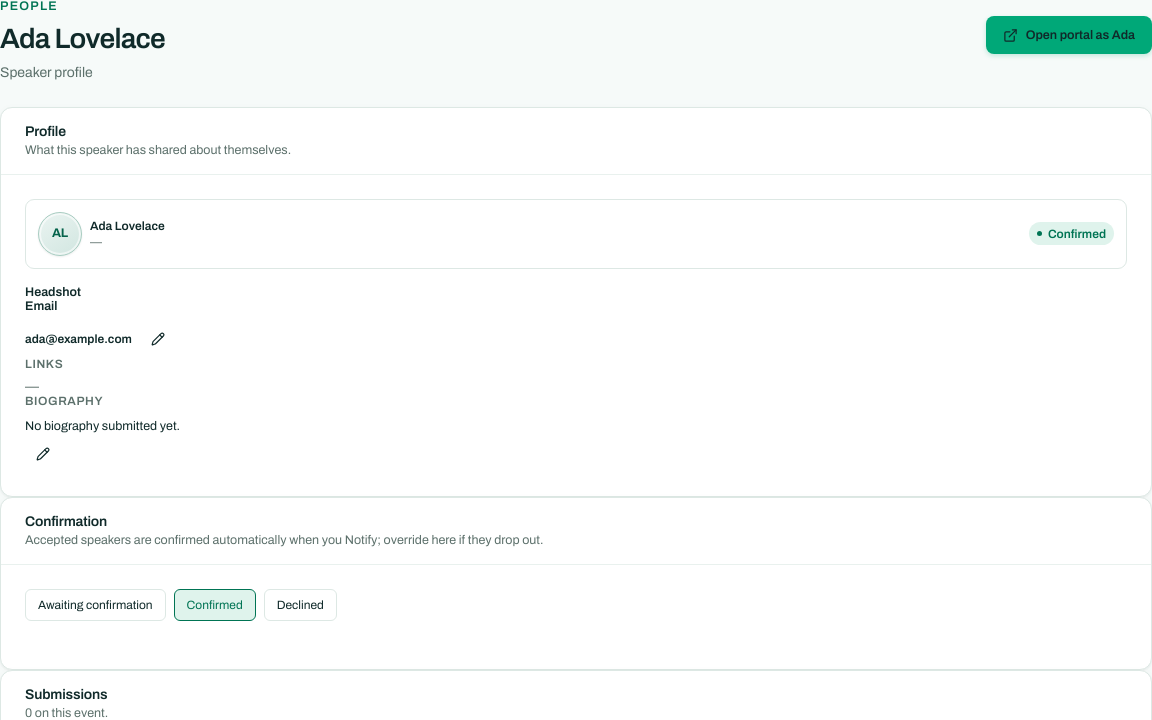
Test: declining a confirmed speaker › asks first and names what the speaker loses in public, writing nothing until confirmed
Click the button "Declined". click: x=300, y=605
box: [264,589,337,621]
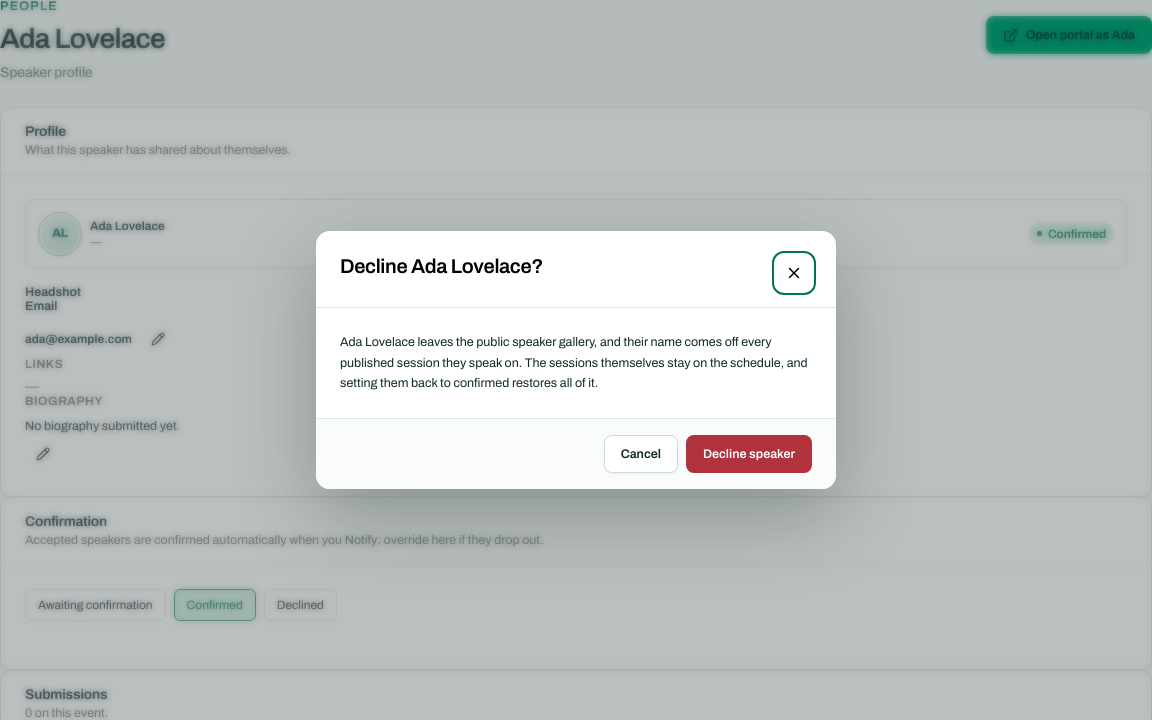
Now the text "Decline Ada Lovelace?" is shown, box [340,255,543,277]
Now the text "public speaker gallery" is shown, box [340,335,808,390]
Now the text "published session" is shown, box [340,335,808,390]
